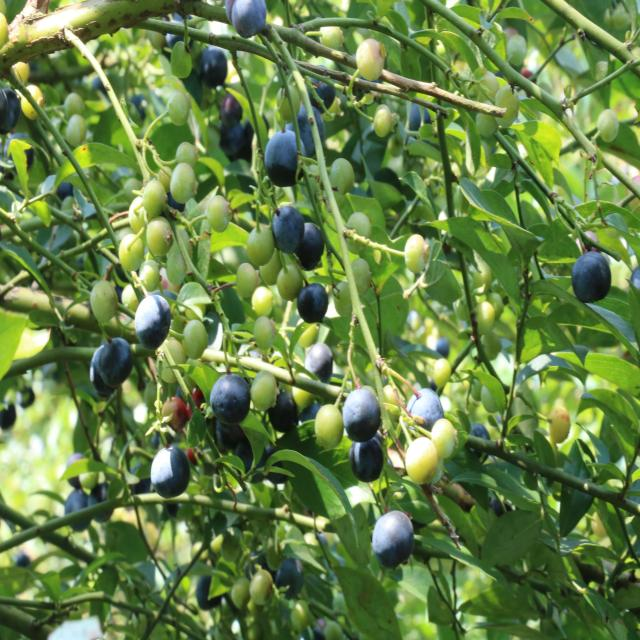blueberry: (370, 507, 415, 566), (262, 128, 306, 186), (207, 372, 253, 424), (570, 250, 611, 306), (283, 104, 325, 157), (150, 444, 192, 496), (134, 295, 170, 352), (301, 66, 340, 115), (341, 388, 379, 438), (348, 435, 386, 481), (406, 385, 444, 430), (228, 0, 269, 38), (99, 339, 133, 384), (272, 205, 302, 252), (297, 222, 325, 272), (296, 280, 327, 324), (270, 390, 299, 435), (198, 44, 228, 87), (306, 342, 336, 384), (274, 556, 306, 595), (64, 490, 90, 534), (465, 418, 492, 460), (215, 113, 241, 153), (193, 571, 220, 609), (88, 483, 112, 522), (244, 546, 272, 579), (54, 178, 76, 212)
blueberry-halfripe: (162, 394, 189, 432), (191, 385, 209, 419)
blueberry-unripe: (404, 434, 438, 485), (355, 36, 388, 82), (156, 337, 186, 382), (89, 279, 119, 323), (244, 223, 274, 266), (314, 401, 342, 446), (491, 80, 518, 126), (249, 368, 279, 409), (402, 231, 428, 277), (168, 162, 198, 200), (117, 230, 145, 270), (145, 217, 173, 257), (327, 155, 355, 195), (431, 417, 458, 458), (316, 18, 345, 55), (180, 321, 208, 359), (275, 80, 301, 120), (471, 66, 497, 106), (208, 192, 232, 234), (251, 313, 277, 351), (370, 100, 394, 141), (344, 212, 370, 249), (330, 278, 354, 318), (546, 404, 570, 443), (19, 81, 44, 118), (348, 256, 371, 296), (276, 264, 301, 300), (467, 258, 492, 294), (168, 89, 191, 128), (168, 41, 192, 78), (249, 568, 274, 603), (142, 180, 165, 218), (235, 258, 256, 299), (64, 114, 88, 149), (128, 192, 148, 232), (260, 251, 281, 287), (252, 282, 274, 316), (139, 259, 161, 292), (474, 106, 498, 136), (230, 574, 251, 608), (164, 253, 186, 285), (476, 296, 496, 331), (507, 33, 527, 68), (175, 140, 199, 168), (62, 90, 84, 119), (432, 355, 451, 386), (9, 56, 30, 84), (120, 284, 140, 312), (0, 10, 10, 50), (159, 164, 173, 190)
